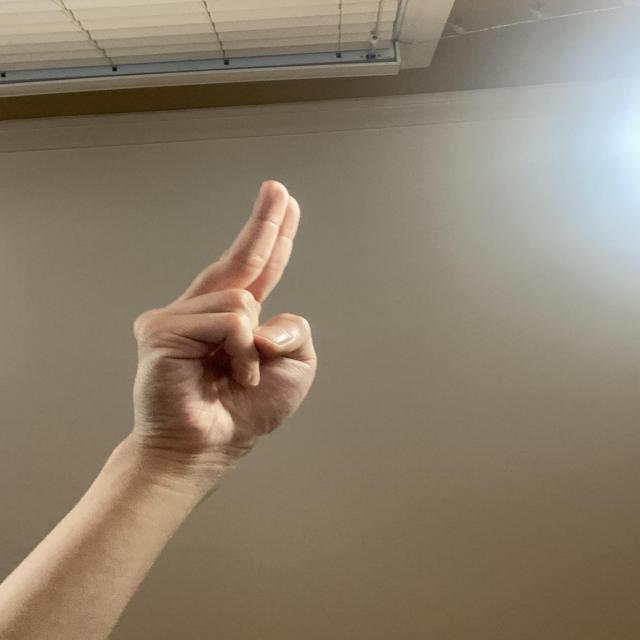U: (111, 172, 327, 486)
